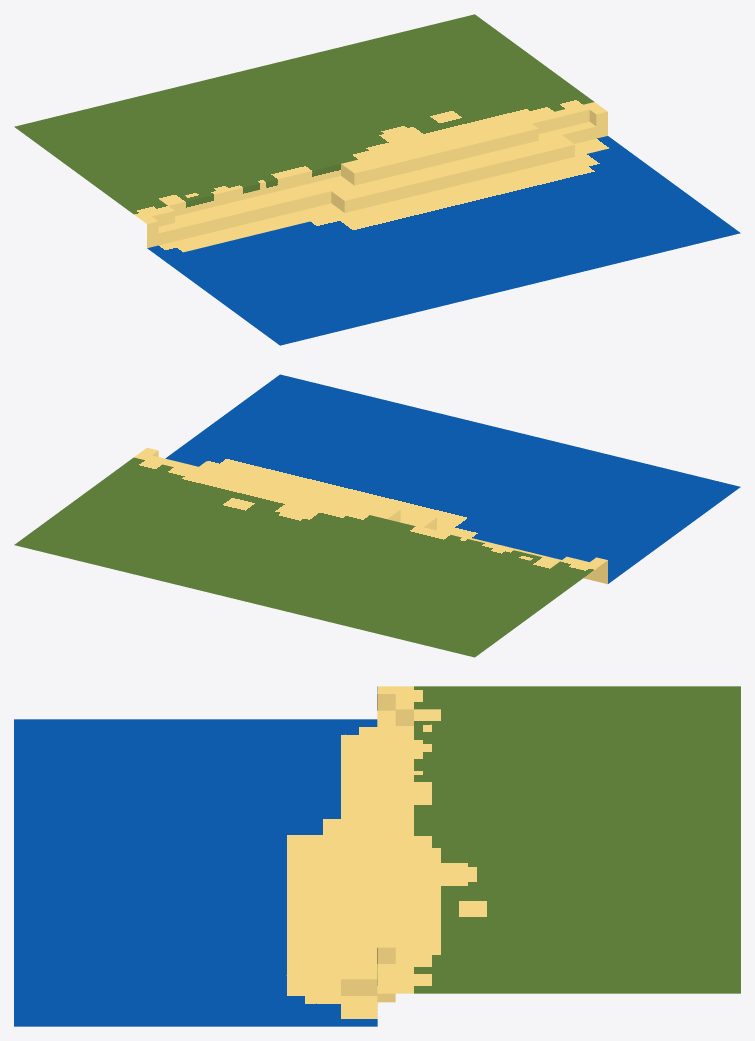
File: LLWW(1).glb
3 views of the same model, one above another, from view 1: azimuth 30°, elevation 25°; view 2: azimuth 150°, elevation 25°; view 3: azimuth 270°, elevation 25° (orthographic). The views are drawn at different scales.
Visible parts, largest first — view 1: model_0.012; view 2: model_0.012; view 3: model_0.012.
Boxes of the visible parts, box(x1,y1,x2,y2) form: model_0.012: box(14, 14, 740, 345); model_0.012: box(14, 374, 740, 657); model_0.012: box(14, 686, 740, 1026).
Bounding box in the file's own units: 80 × 4 × 80.
1 material, 1 textured.
